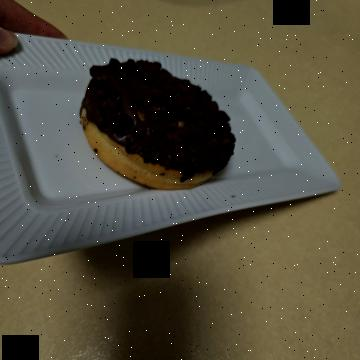doughnut: (46, 117, 193, 290)
